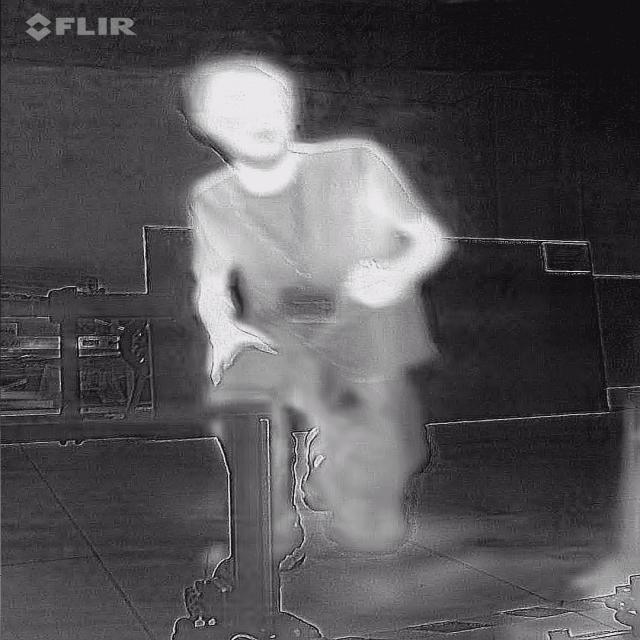Victim: (176, 50, 455, 570)
